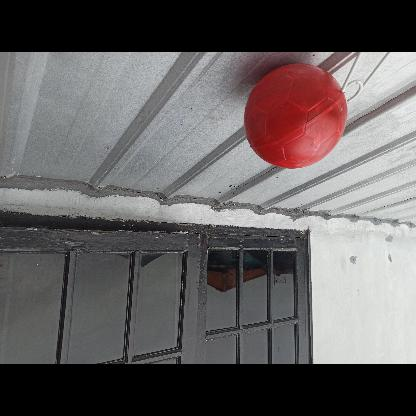red_ball: (246, 66, 352, 172)
